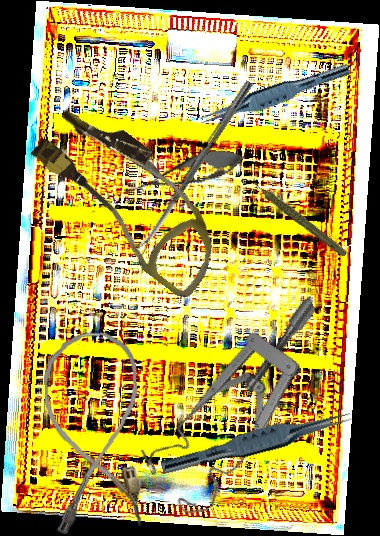Cannula: (15, 93, 246, 303), (41, 329, 145, 535)
Handpiece: (250, 160, 349, 273)
Micro Scissor: (122, 139, 252, 206)
Speculum: (115, 297, 376, 525)
Surgical Spoon: (134, 79, 254, 256)
Tissue Forceps: (159, 400, 355, 486), (197, 54, 352, 134)
